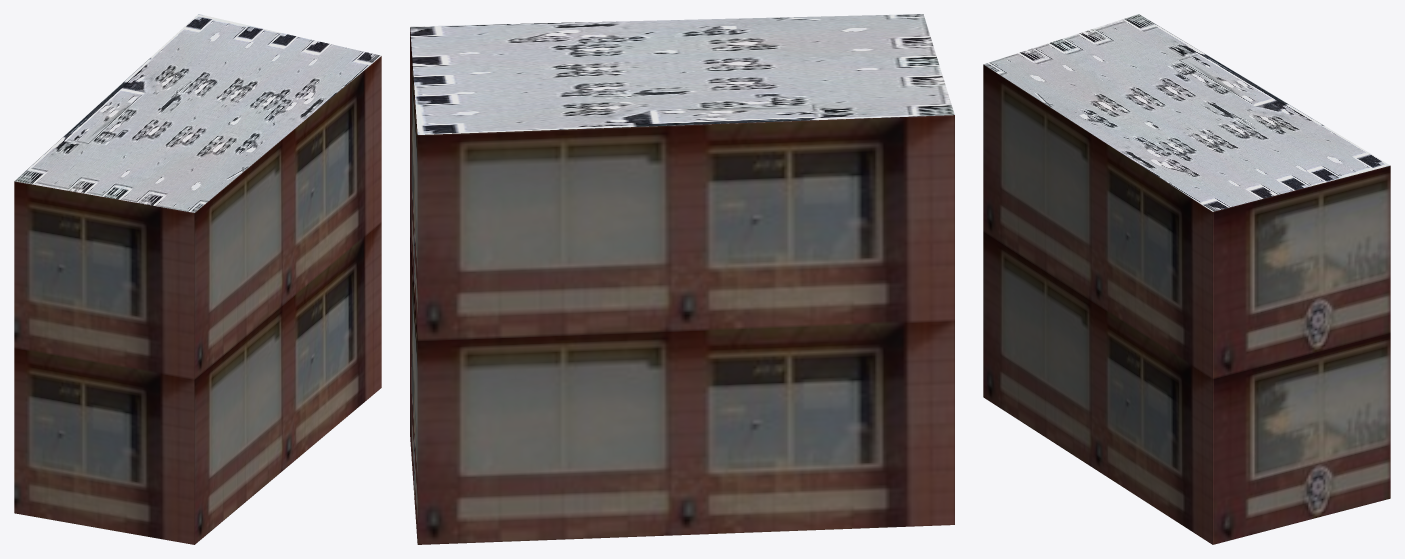
Rendered from ResTex__1507.fbx.
3 renders of one model, left to right at view 1: azimuth 30°, elevation 25°; view 2: azimuth 150°, elevation 25°; view 3: azimuth 270°, elevation 25°, orthographic. The views are drawn at different scales.
Visible parts, largest first — view 1: CityEngineMaterial_13_m, CityEngineMaterial_8_m; view 2: CityEngineMaterial_13_m, CityEngineMaterial_8_m; view 3: CityEngineMaterial_13_m, CityEngineMaterial_8_m.
Boxes of the visible parts, x1,y1,x2,y2 form: CityEngineMaterial_13_m: (14, 56, 381, 544); CityEngineMaterial_8_m: (14, 14, 381, 212); CityEngineMaterial_13_m: (410, 27, 954, 544); CityEngineMaterial_8_m: (410, 14, 954, 134); CityEngineMaterial_13_m: (983, 64, 1390, 544); CityEngineMaterial_8_m: (984, 14, 1389, 211).
Size of the model in its own units: 7.65 by 6 by 6.65.
Materials: 2 (2 with a texture image).
